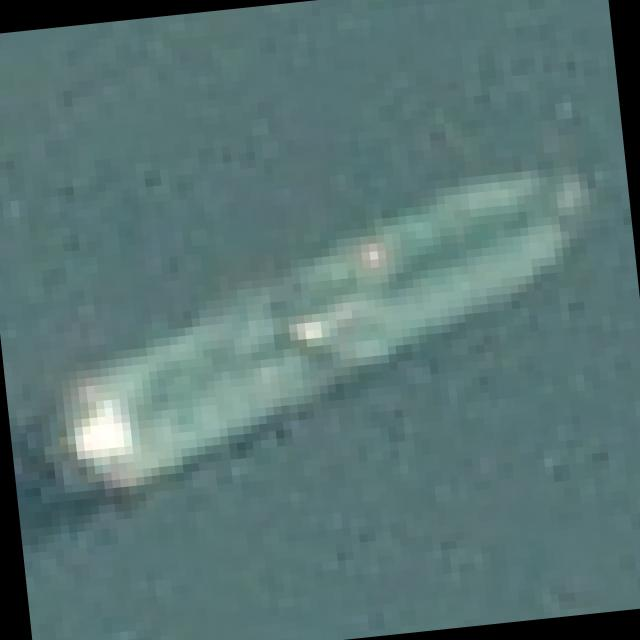ship: (1, 118, 604, 514)
